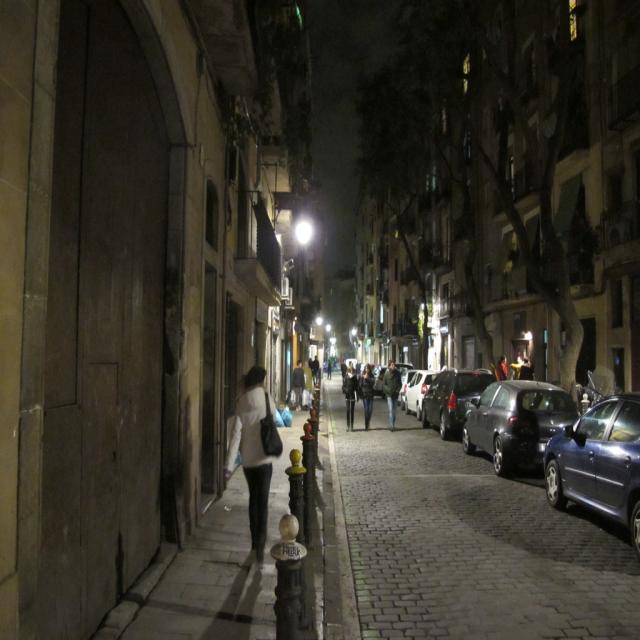Passenger Car: (544, 378, 639, 557), (463, 381, 577, 479), (422, 364, 462, 445)
Pedestrians: (225, 361, 288, 565), (383, 359, 400, 430), (344, 353, 358, 432), (362, 360, 376, 432), (292, 359, 306, 413)
